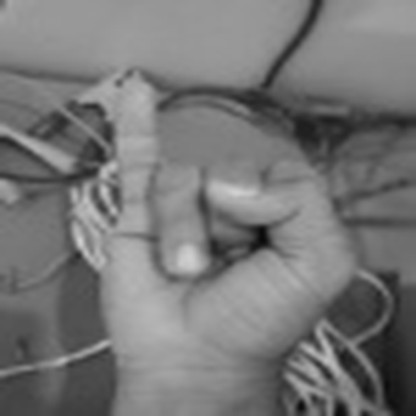i: (95, 69, 363, 377)
